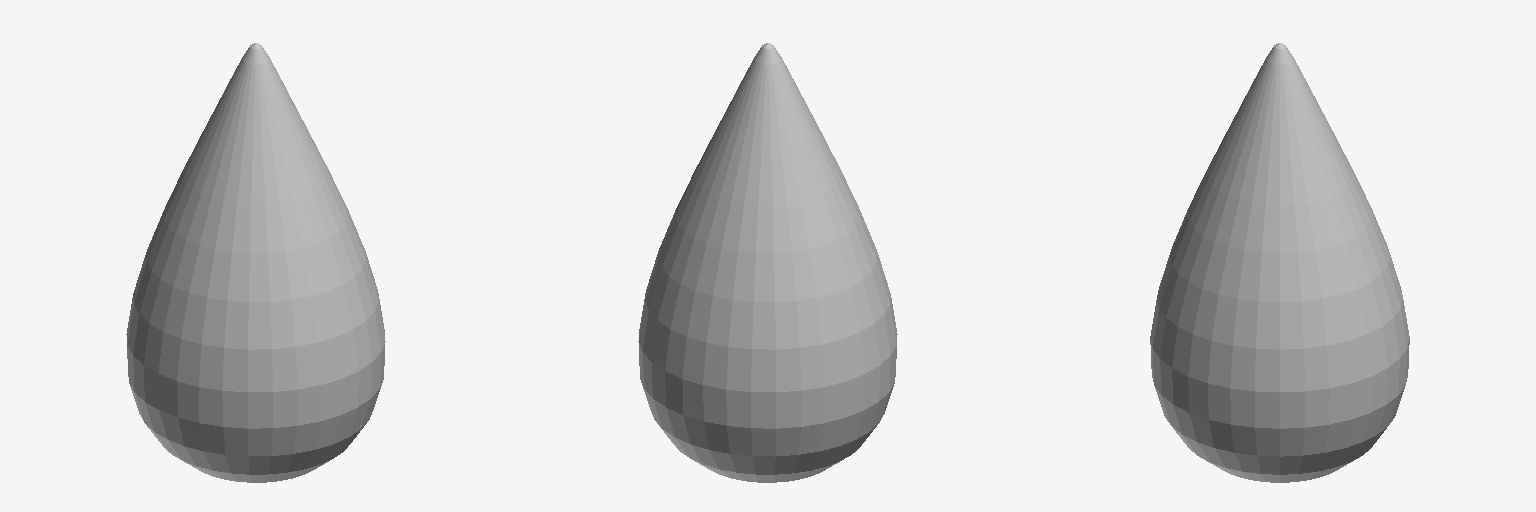
Rendered from wate_rcapsule2.obj.
The picture shows the model from 3 angles: view 1: azimuth 30°, elevation 25°; view 2: azimuth 150°, elevation 25°; view 3: azimuth 270°, elevation 25°; orthographic projection.
Parts seen in each view (by area): view 1: Sphere001; view 2: Sphere001; view 3: Sphere001.
Part boxes in pixels (bbox=[...]): Sphere001: bbox=[126, 43, 385, 482]; Sphere001: bbox=[638, 43, 897, 482]; Sphere001: bbox=[1150, 43, 1409, 482].
Bounding box in the file's own units: 1.44 × 2.61 × 1.44.